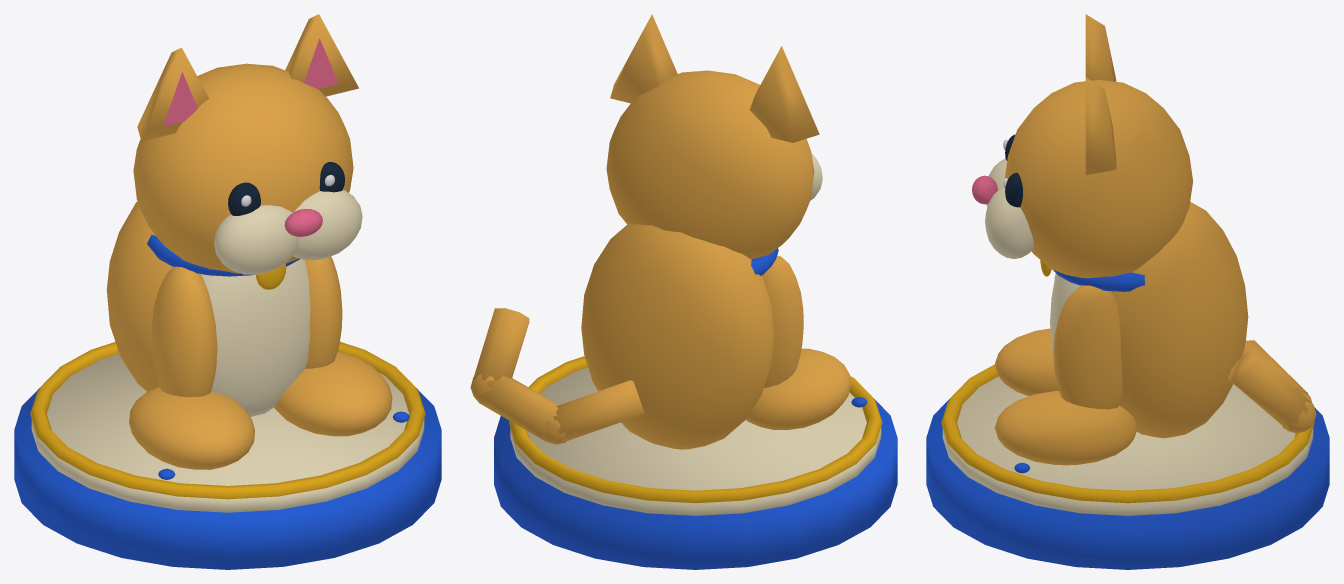
File: blue_cat.glb
3 views of the same model, side by side, from view 1: azimuth 30°, elevation 25°; view 2: azimuth 150°, elevation 25°; view 3: azimuth 270°, elevation 25° (orthographic). The views are drawn at different scales.
Parts seen in each view (by area): view 1: world; view 2: world; view 3: world.
Boxes of the visible parts, left/top/right/bottom form: world: left=14, top=14, right=441, bottom=569; world: left=470, top=14, right=897, bottom=569; world: left=926, top=14, right=1329, bottom=569.
Bounding box in the file's own units: 0.124 × 0.149 × 0.124.
